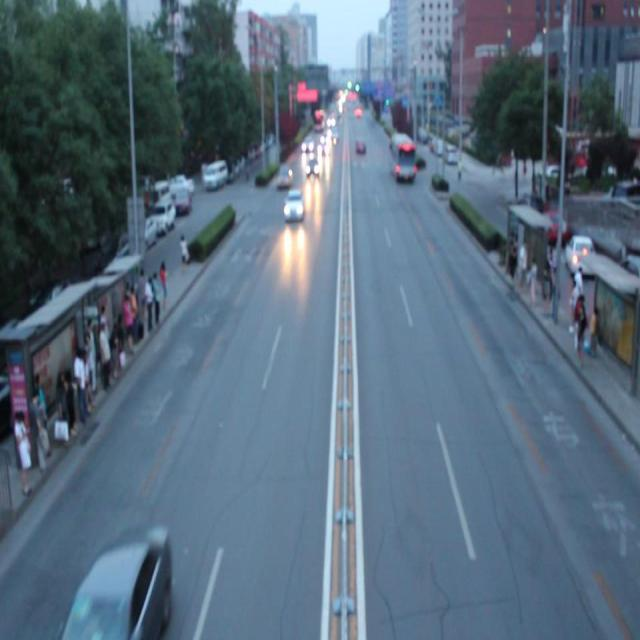car: (70, 530, 169, 640), (284, 190, 303, 222), (305, 158, 319, 176), (277, 170, 291, 186)
van: (388, 134, 416, 180)
